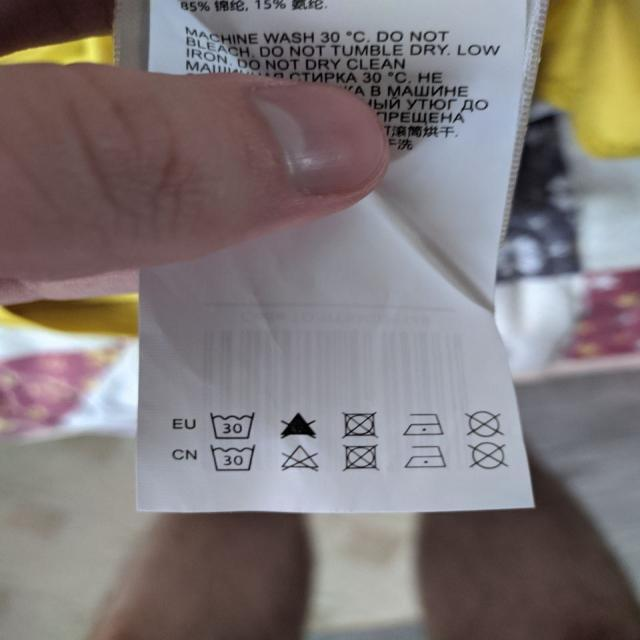30C: (208, 406, 258, 441), (208, 443, 259, 475)
DN_bleach: (279, 409, 319, 441), (279, 444, 319, 473)
DN_dry_clean: (465, 441, 512, 472), (463, 408, 507, 440)
DN_tumble_dry: (342, 441, 380, 473), (341, 410, 379, 439)
iron_low: (402, 442, 450, 473), (402, 410, 446, 438)
